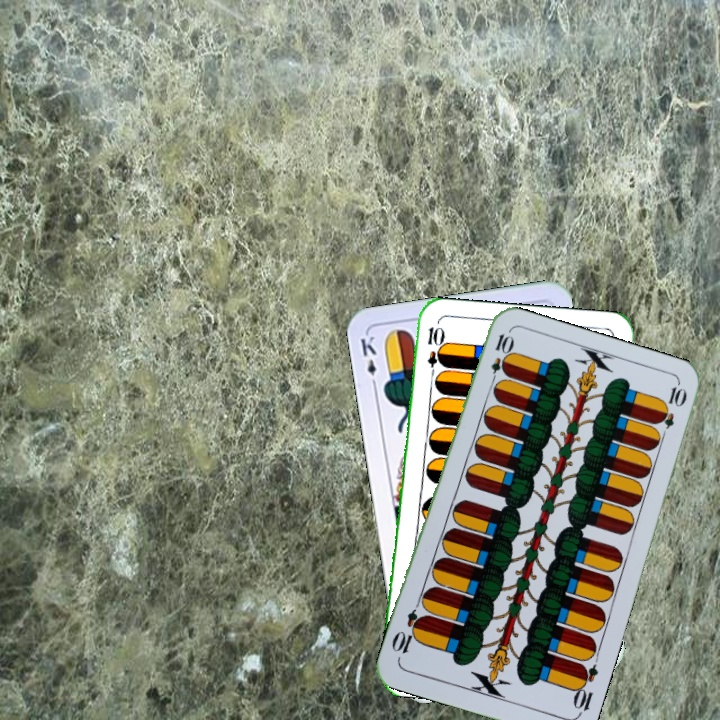E10: (569, 660, 601, 719), (486, 330, 514, 389), (423, 322, 443, 382)
EK: (356, 332, 380, 391)
